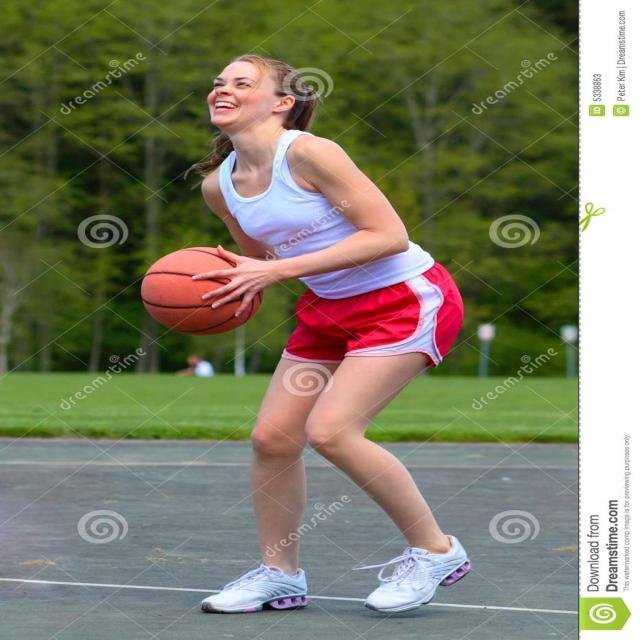Face: (193, 55, 284, 129)
